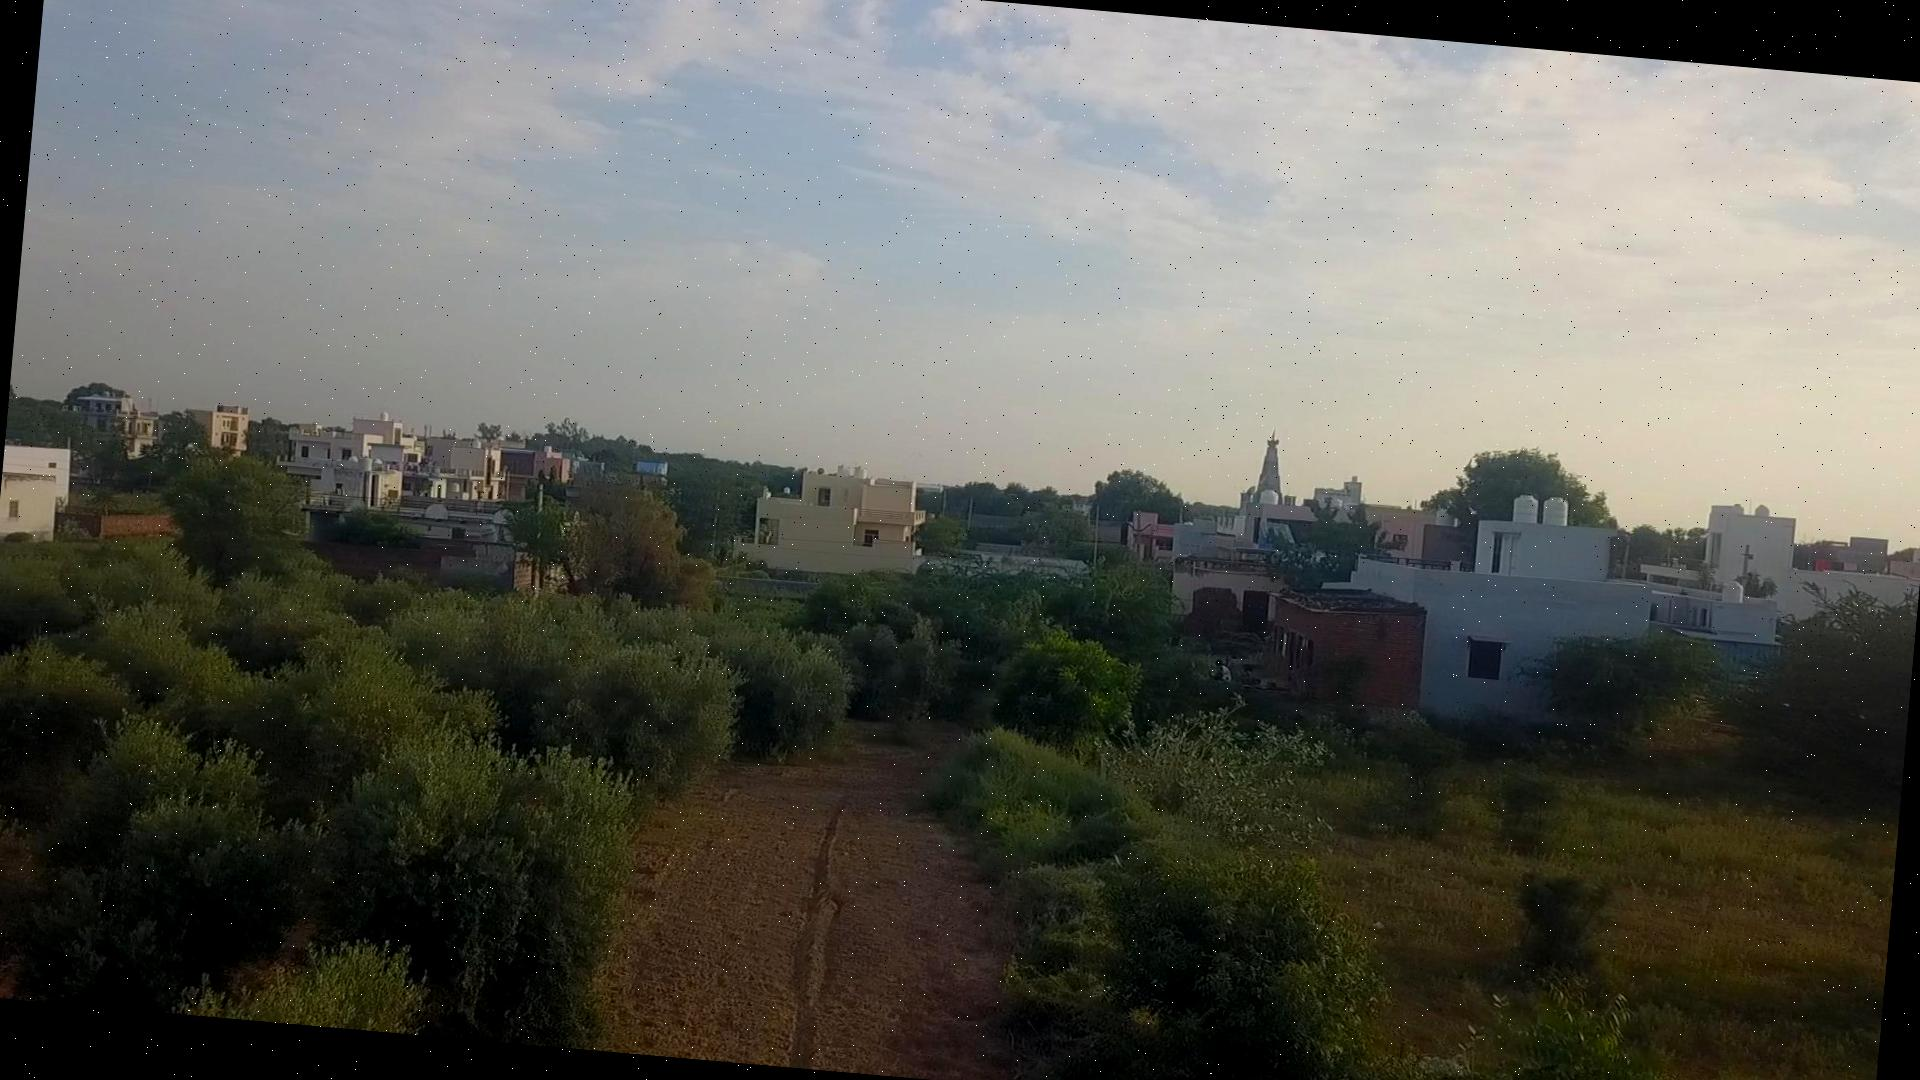canopy: (0, 545, 961, 1046), (930, 630, 1486, 1080)
road: (607, 723, 1017, 1080)
